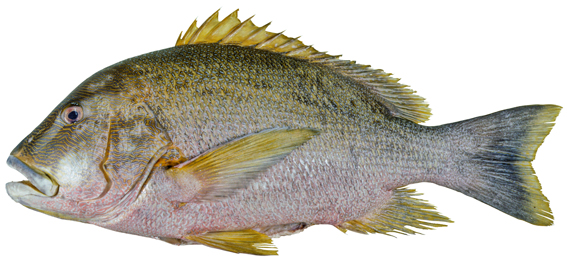fish: (5, 5, 563, 256)
